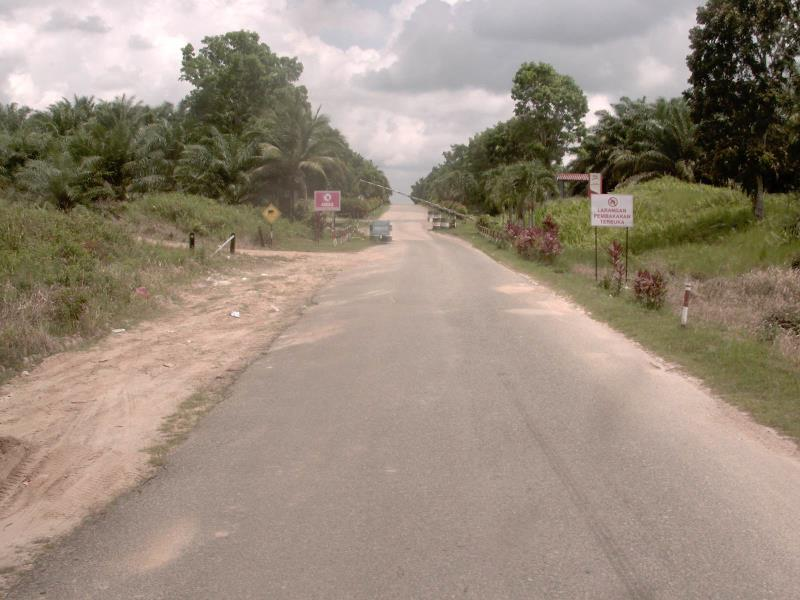ads_sign: (584, 186, 642, 234)
